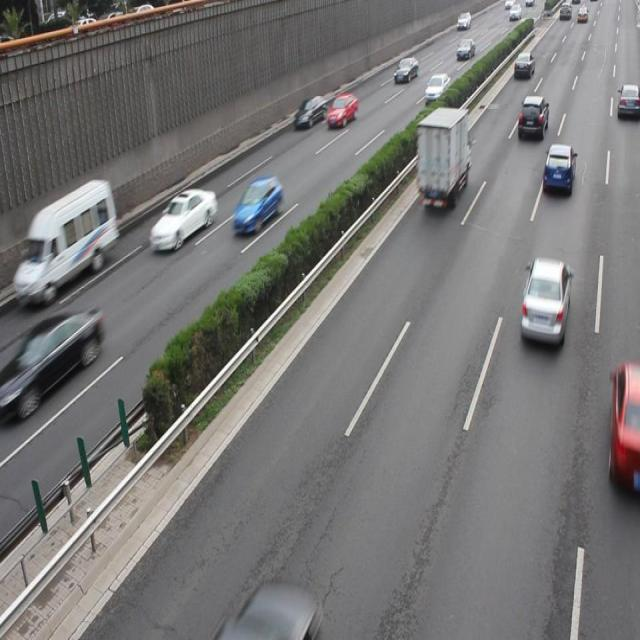bus: (416, 106, 471, 203)
car: (0, 307, 106, 422), (214, 577, 320, 640), (518, 254, 570, 346), (149, 186, 218, 250), (608, 357, 640, 489), (232, 176, 282, 235), (541, 143, 574, 198), (517, 94, 547, 140), (293, 94, 326, 130), (325, 93, 358, 129)
truck: (13, 179, 118, 303)
